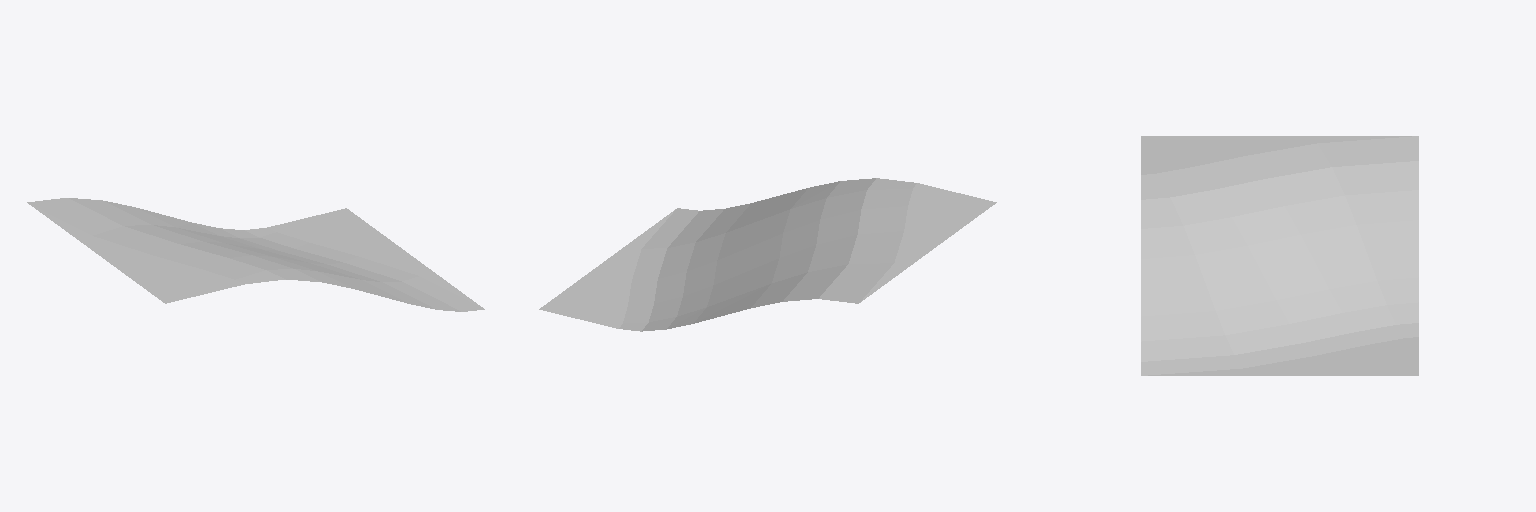
Rendered from Terrain_Hill_Esse_3x4.obj.
The picture shows the model from 3 angles: view 1: azimuth 30°, elevation 25°; view 2: azimuth 150°, elevation 25°; view 3: azimuth 270°, elevation 25°; orthographic projection.
Parts seen in each view (by area): view 1: Grass; view 2: Grass; view 3: Grass.
Boxes of the visible parts, box(x1,y1,x2,y2) form: Grass: box(27, 198, 484, 311); Grass: box(539, 178, 996, 331); Grass: box(1141, 136, 1418, 375).
Size of the model in its own units: 4 by 1 by 3.